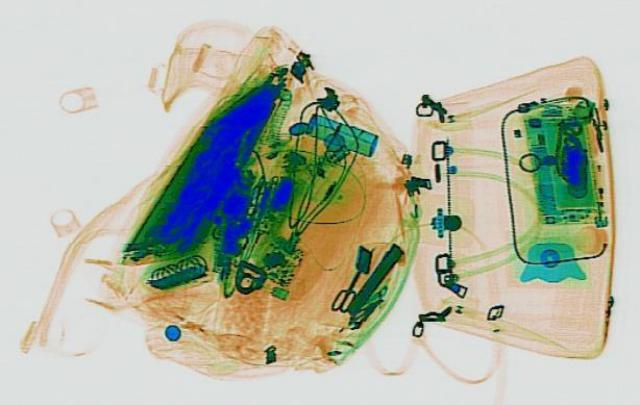Scissors: (324, 242, 382, 313)
